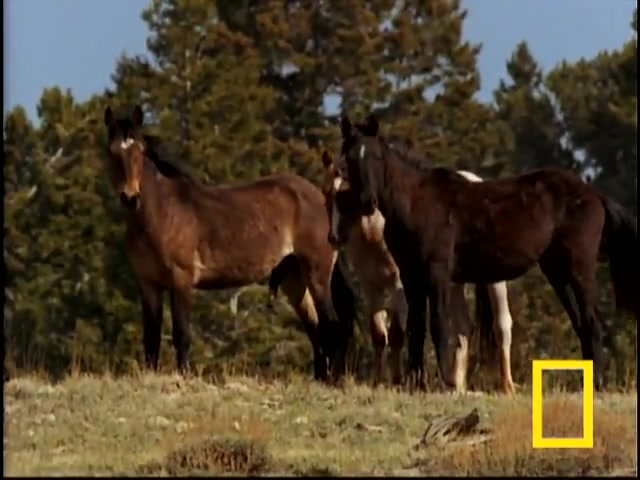horse: (340, 113, 639, 395)
